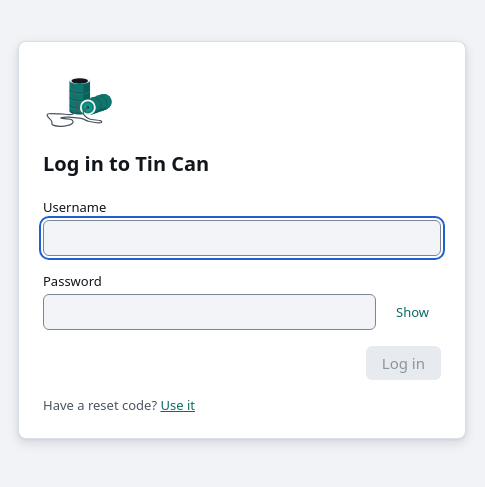
Scenario: login › shows one generic message for a wrong password
Type "mika" into the field labelled "Username". click: (242, 238)
box: 43,220 -> 441,256
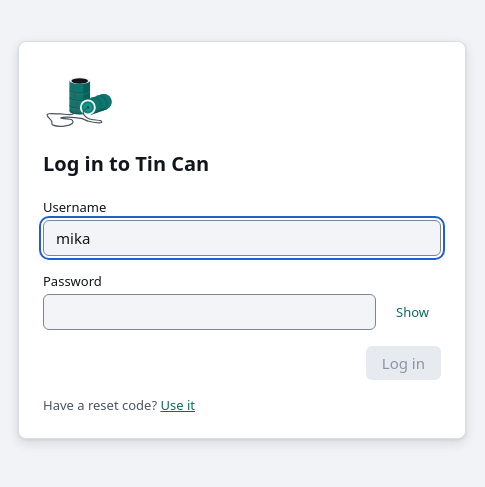
Type "wrong wrong wrong" into the password field labelled "Password". click: (210, 312)
box: 43,294 -> 376,330
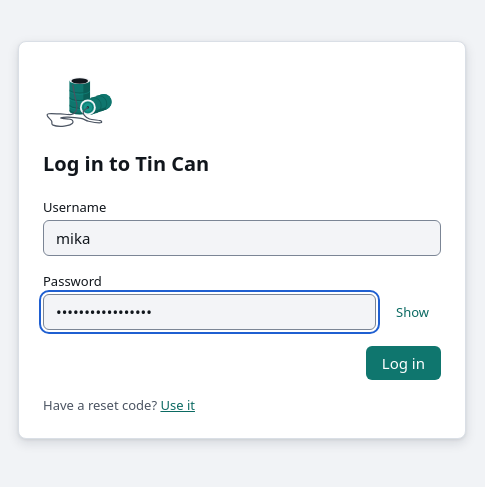
Click the button "Log in". click: (403, 363)
box: 366,346 -> 441,380
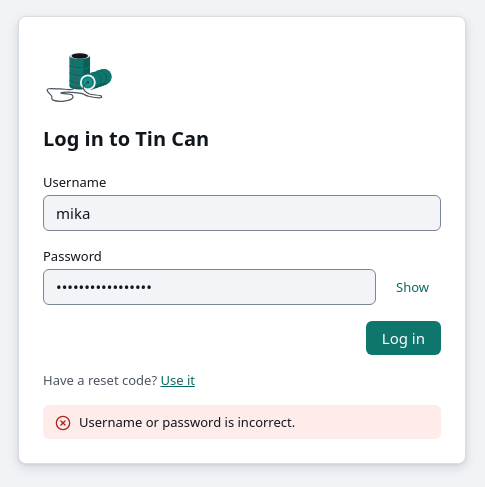
Check: the message reads "Username or password is incorrect.", box 79,413 -> 295,431
